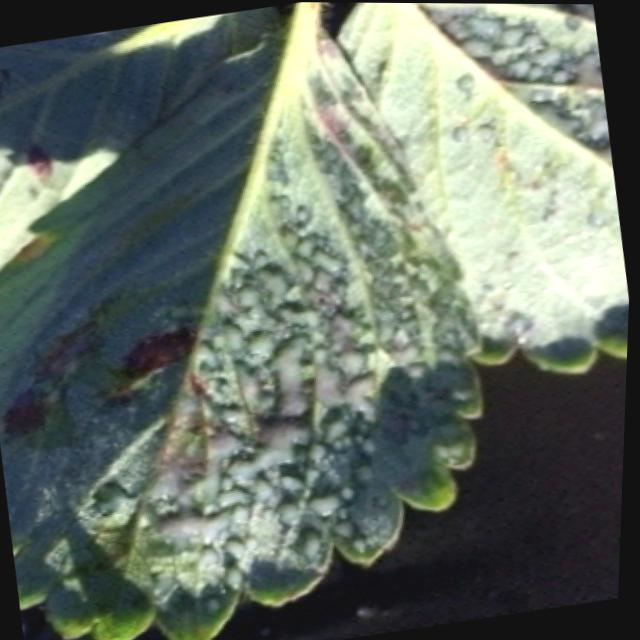Angular Leafspot: (0, 2, 487, 640), (334, 2, 631, 371), (0, 5, 274, 266)
